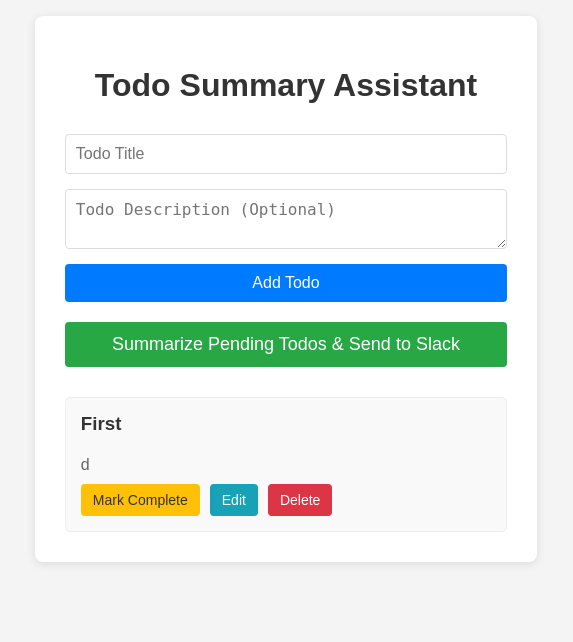
Scenario: App › summarize button shows backend message
Expected: the heading "First" is shown, x1=81 y1=413 x2=121 y2=434
Step 1. Click the button "Summarize Pending Todos & Send to Slack" → x=286, y=345, box x1=65 y1=322 x2=507 y2=367
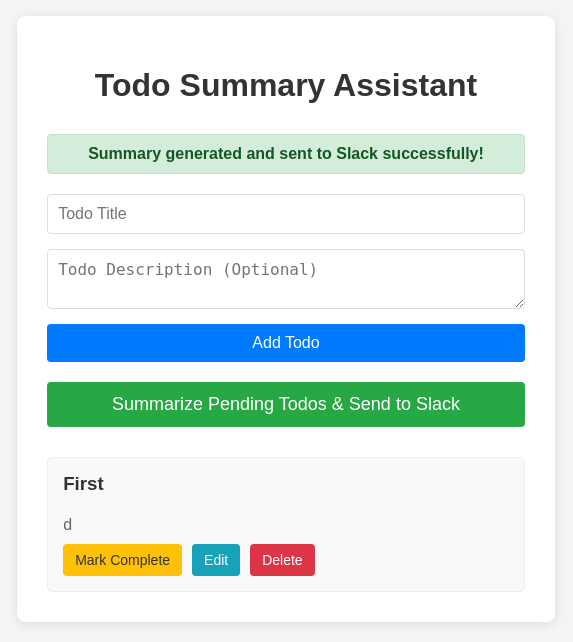
Result: the text "Summary generated and sent to Slack successfully!" is shown at x1=47 y1=134 x2=525 y2=174
